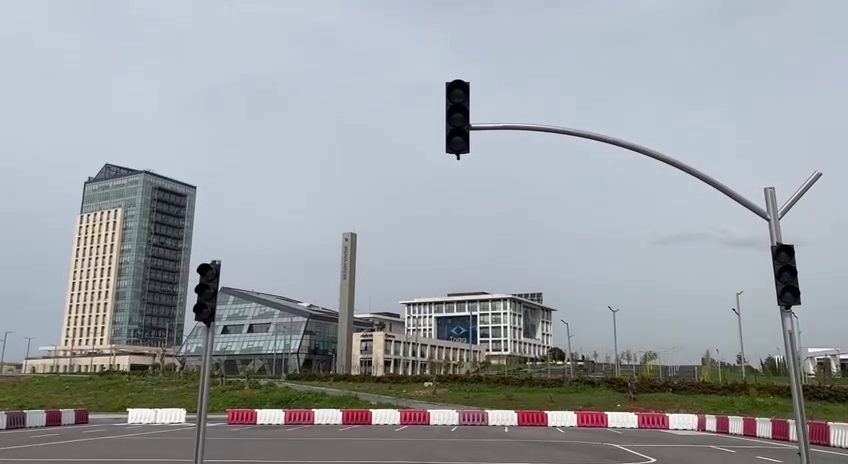trafficLight: (440, 73, 475, 162), (766, 239, 805, 310), (191, 256, 224, 327)
